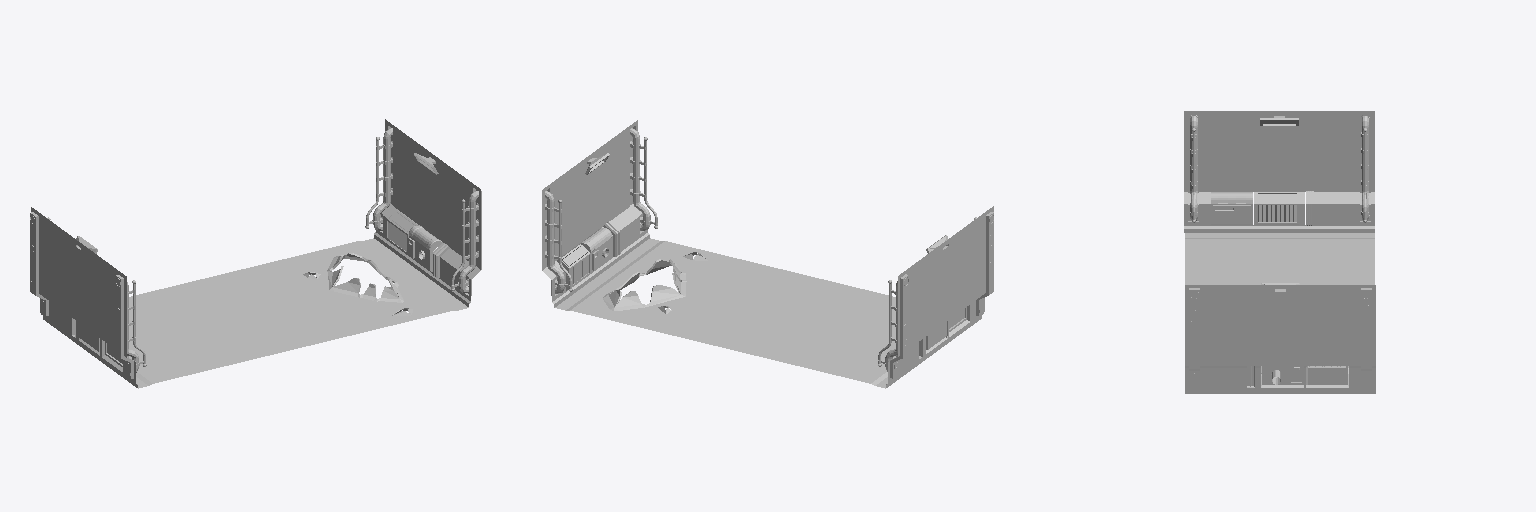
The picture shows the model from 3 angles: view 1: azimuth 30°, elevation 25°; view 2: azimuth 150°, elevation 25°; view 3: azimuth 270°, elevation 25°; orthographic projection.
Parts seen in each view (by area): view 1: Segment_8 Components Full_Templates Templates; view 2: Segment_8 Components Full_Templates Templates; view 3: Segment_8 Components Full_Templates Templates.
Boxes of the visible parts, x1,y1,x2,y2 form: Segment_8 Components Full_Templates Templates: [30, 119, 481, 388]; Segment_8 Components Full_Templates Templates: [542, 120, 993, 388]; Segment_8 Components Full_Templates Templates: [1184, 111, 1375, 393].
Bounding box in the file's own units: 39.31 × 12.06 × 18.1.